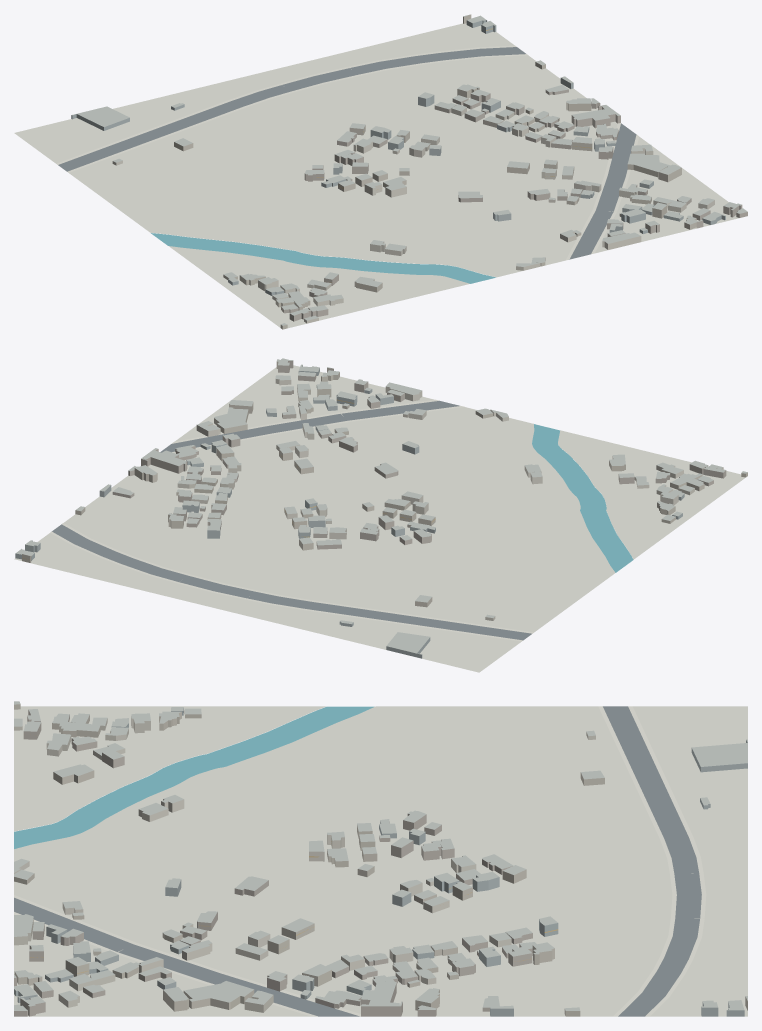
3 views of the same model, one above another, from view 1: azimuth 30°, elevation 25°; view 2: azimuth 150°, elevation 25°; view 3: azimuth 270°, elevation 25° (orthographic). The views are drawn at different scales.
Parts seen in each view (by area): view 1: city; view 2: city; view 3: city.
Part boxes in pixels (x1,y1,x2,y2): city: (14, 14, 747, 329); city: (14, 358, 747, 672); city: (14, 701, 747, 1016).
Bounding box in the file's own units: 500 × 8.98 × 500.
